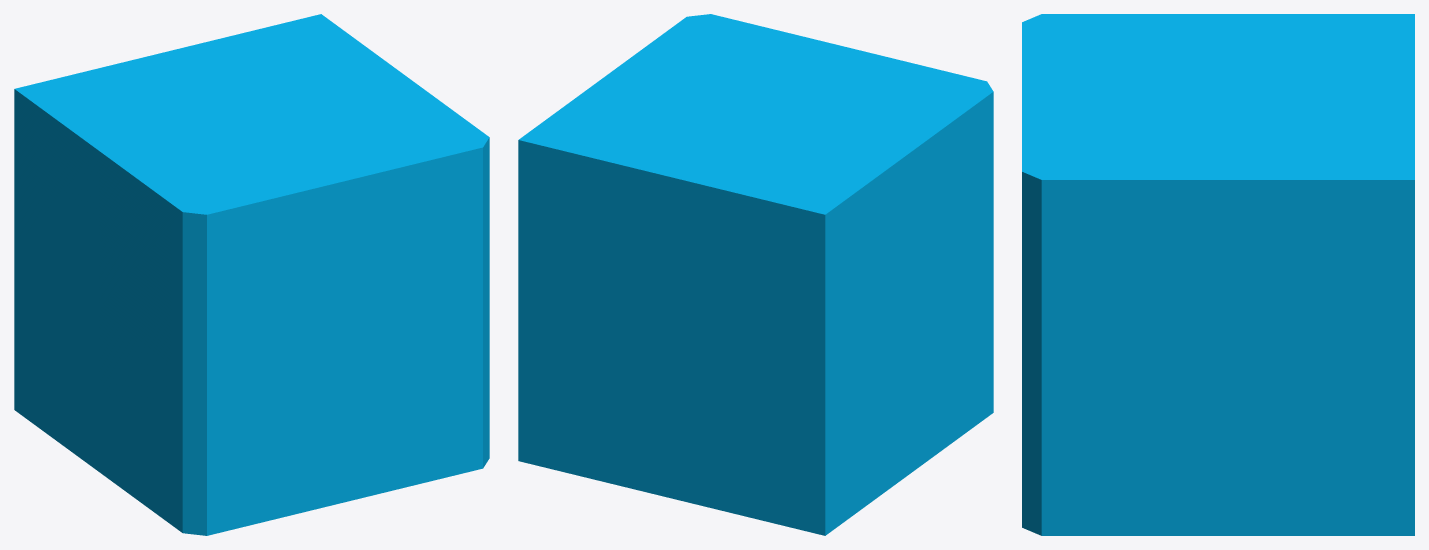
Rendered from lt_Y_on_yuzey_kenar_pah.gltf.
The picture shows the model from 3 angles, left to right: view 1: azimuth 30°, elevation 25°; view 2: azimuth 150°, elevation 25°; view 3: azimuth 270°, elevation 25°; orthographic projection. The views are drawn at different scales.
Parts seen in each view (by area): view 1: Gövde; view 2: Gövde; view 3: Gövde.
Part boxes in pixels (x1,y1,x2,y2): Gövde: [14, 14, 489, 535]; Gövde: [518, 14, 993, 535]; Gövde: [1022, 14, 1414, 535].
Size of the model in its own units: 0.01 by 0.01 by 0.01.
